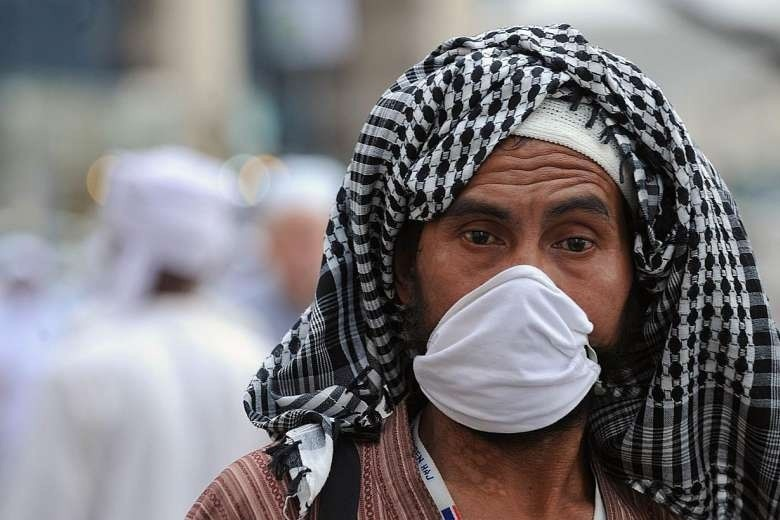face_with_mask: (406, 117, 632, 405)
